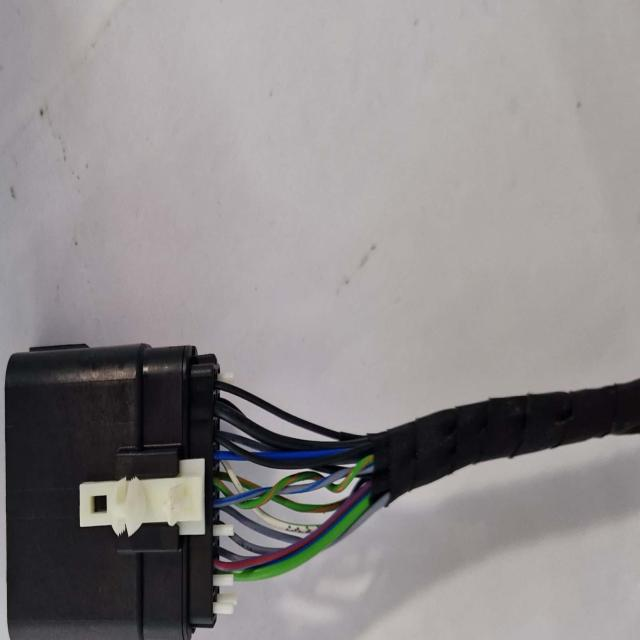Connector: (5, 344, 234, 639), (370, 378, 640, 500)
Gape: (219, 376, 377, 631)
MHEV_N11_Cable: (481, 287, 482, 289)
